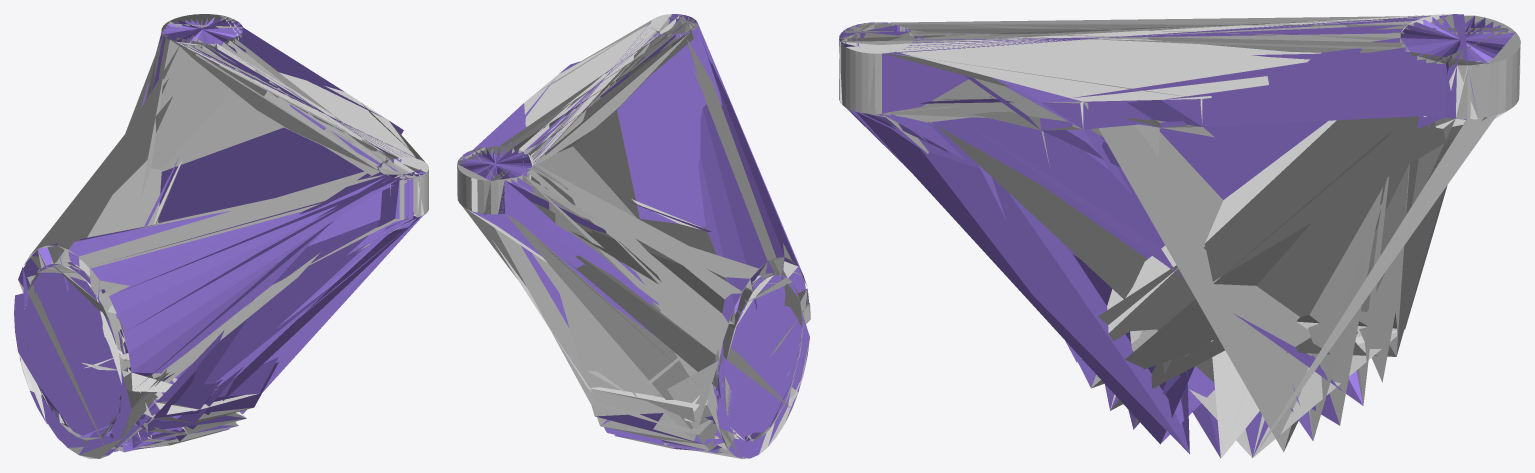
File: camera.glb
3 renders of one model, left to right at view 1: azimuth 30°, elevation 25°; view 2: azimuth 150°, elevation 25°; view 3: azimuth 270°, elevation 25°, orthographic. The views are drawn at different scales.
Parts seen in each view (by area): view 1: 02___Default, _crayfishdiffuse, 07___Default; view 2: _crayfishdiffuse, 02___Default, 07___Default; view 3: _crayfishdiffuse, 02___Default.
Part boxes in pixels (bbox=[...]): 02___Default: bbox=[14, 17, 425, 458]; _crayfishdiffuse: bbox=[15, 14, 428, 458]; 07___Default: bbox=[141, 24, 425, 255]; _crayfishdiffuse: bbox=[457, 14, 810, 458]; 02___Default: bbox=[458, 14, 809, 458]; 07___Default: bbox=[498, 17, 696, 233]; _crayfishdiffuse: bbox=[839, 14, 1520, 458]; 02___Default: bbox=[839, 14, 1515, 458].
Size of the model in its own units: 340 by 384 by 495.
